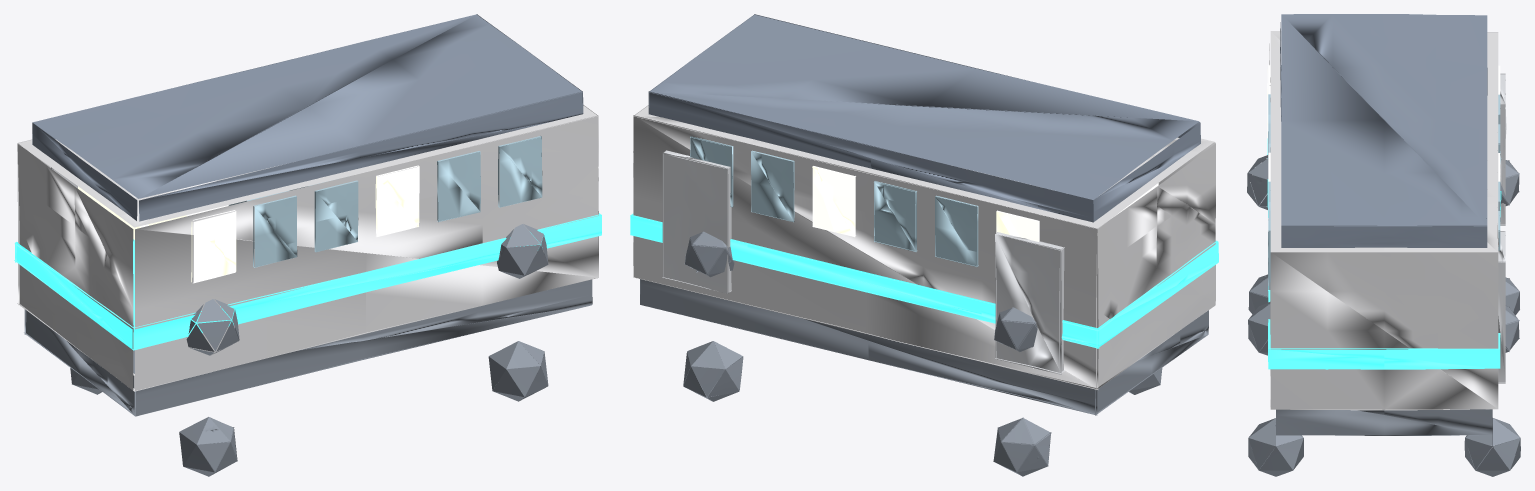
Rendered from car.glb.
3 renders of one model, left to right at view 1: azimuth 30°, elevation 25°; view 2: azimuth 150°, elevation 25°; view 3: azimuth 270°, elevation 25°, orthographic. The views are drawn at different scales.
Visible parts, largest first — view 1: MetroCar; view 2: MetroCar; view 3: MetroCar.
Boxes of the visible parts, left/top/right/bottom form: MetroCar: left=14, top=14, right=601, bottom=476; MetroCar: left=630, top=14, right=1218, bottom=476; MetroCar: left=1247, top=14, right=1520, bottom=476.
Bounding box in the file's own units: 2.43 × 1.45 × 1.26.
